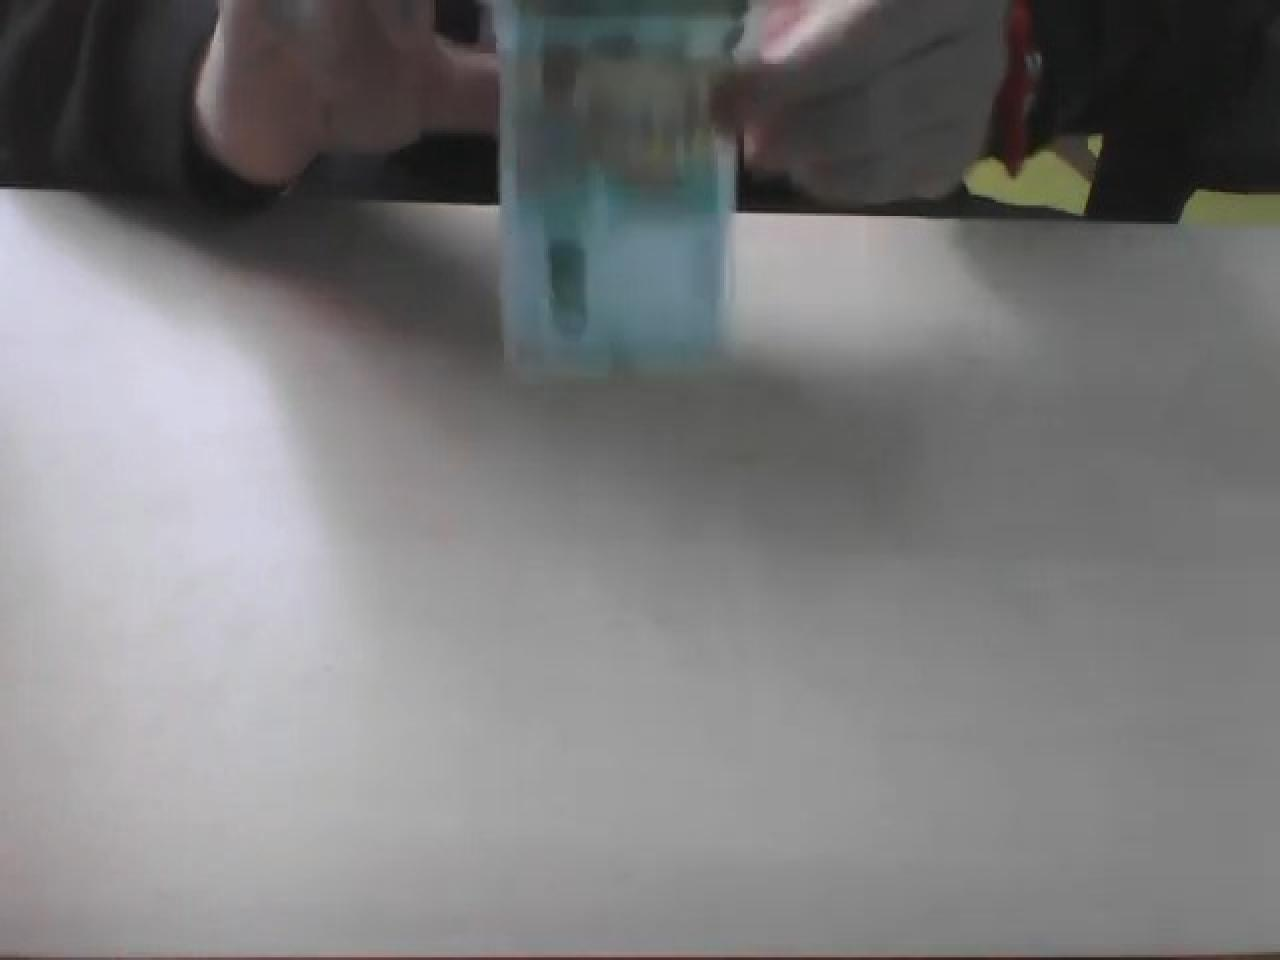100leva: (490, 0, 748, 387)
